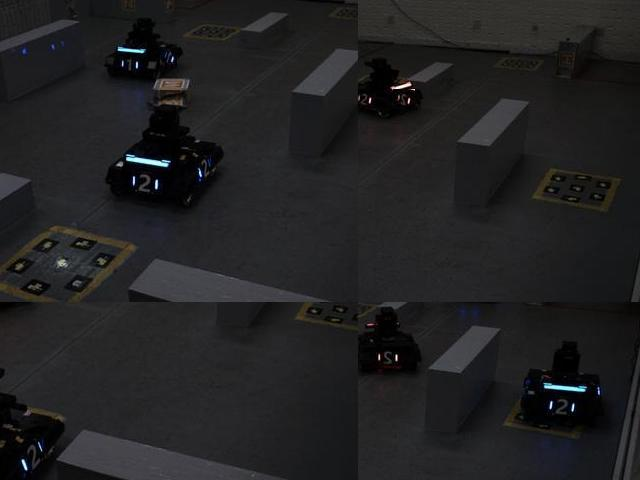armor: (16, 435, 47, 479), (128, 171, 161, 200), (193, 151, 216, 185), (545, 397, 578, 419), (375, 347, 404, 370), (393, 89, 416, 110), (358, 87, 378, 111), (117, 55, 140, 74), (160, 48, 178, 68)
